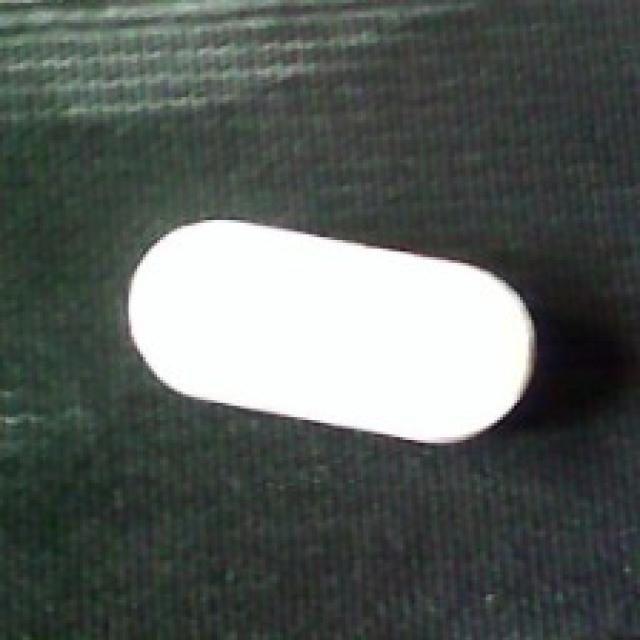no-defect: (126, 214, 540, 449)
